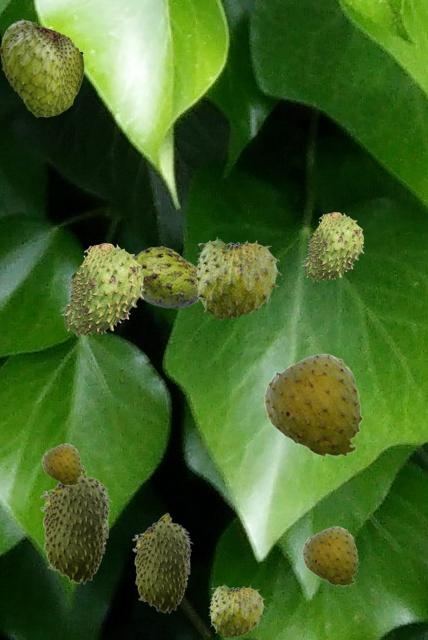guyabano: (262, 353, 362, 458), (40, 464, 111, 583), (0, 18, 83, 116), (60, 243, 143, 336), (193, 236, 280, 319), (132, 512, 192, 612), (301, 212, 363, 281), (134, 246, 197, 308), (301, 526, 358, 586), (208, 583, 265, 637), (41, 443, 81, 485)
